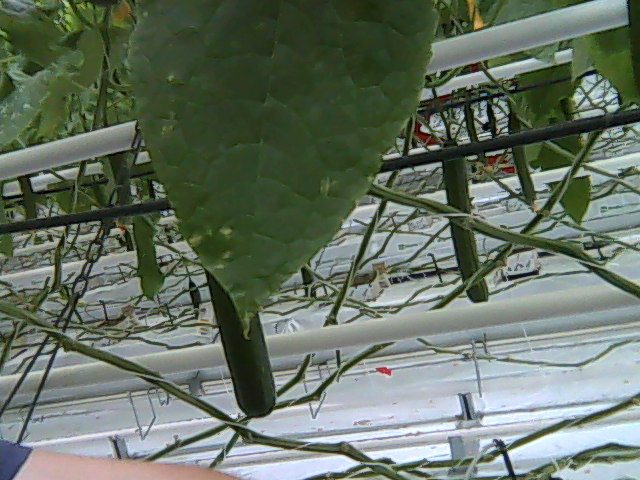concombre: (202, 262, 283, 420)
